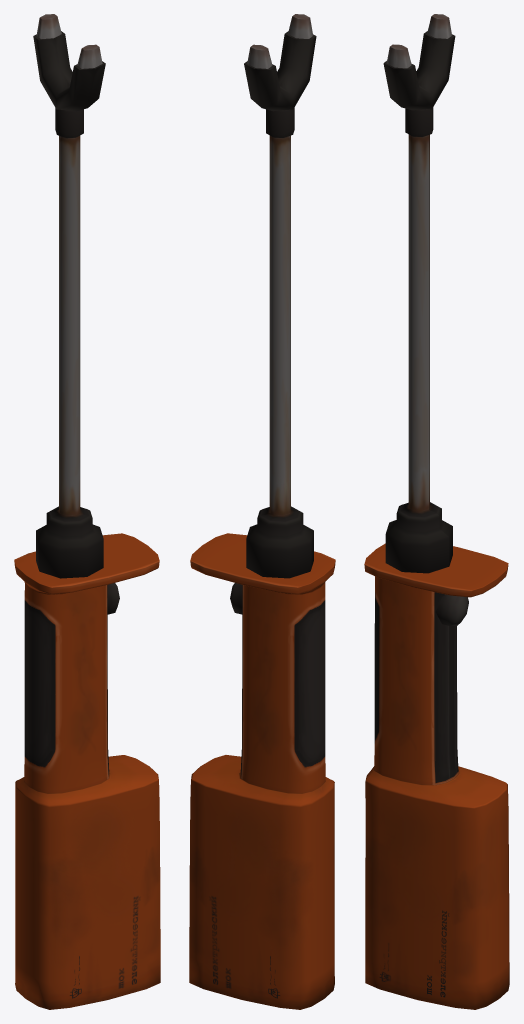
File: ElectricProd1.fbx
3 views of the same model, side by side, from view 1: azimuth 30°, elevation 25°; view 2: azimuth 150°, elevation 25°; view 3: azimuth 330°, elevation 25° (orthographic).
Parts seen in each view (by area): view 1: Handle1, ProdPole1, ProdEnd1; view 2: Handle1, ProdPole1, ProdEnd1; view 3: Handle1, ProdPole1, ProdEnd1, Button.
Boxes of the visible parts, <box> form: Handle1: <box>14,533,160,1009</box>; ProdPole1: <box>36,108,103,578</box>; ProdEnd1: <box>33,14,105,111</box>; Handle1: <box>189,533,335,1009</box>; ProdPole1: <box>246,108,313,578</box>; ProdEnd1: <box>244,14,316,111</box>; Handle1: <box>364,543,509,1009</box>; ProdPole1: <box>385,107,452,573</box>; ProdEnd1: <box>383,14,455,110</box>; Button: <box>435,594,468,625</box>.
Bounding box in the file's own units: 9.53 × 70.08 × 6.91.
